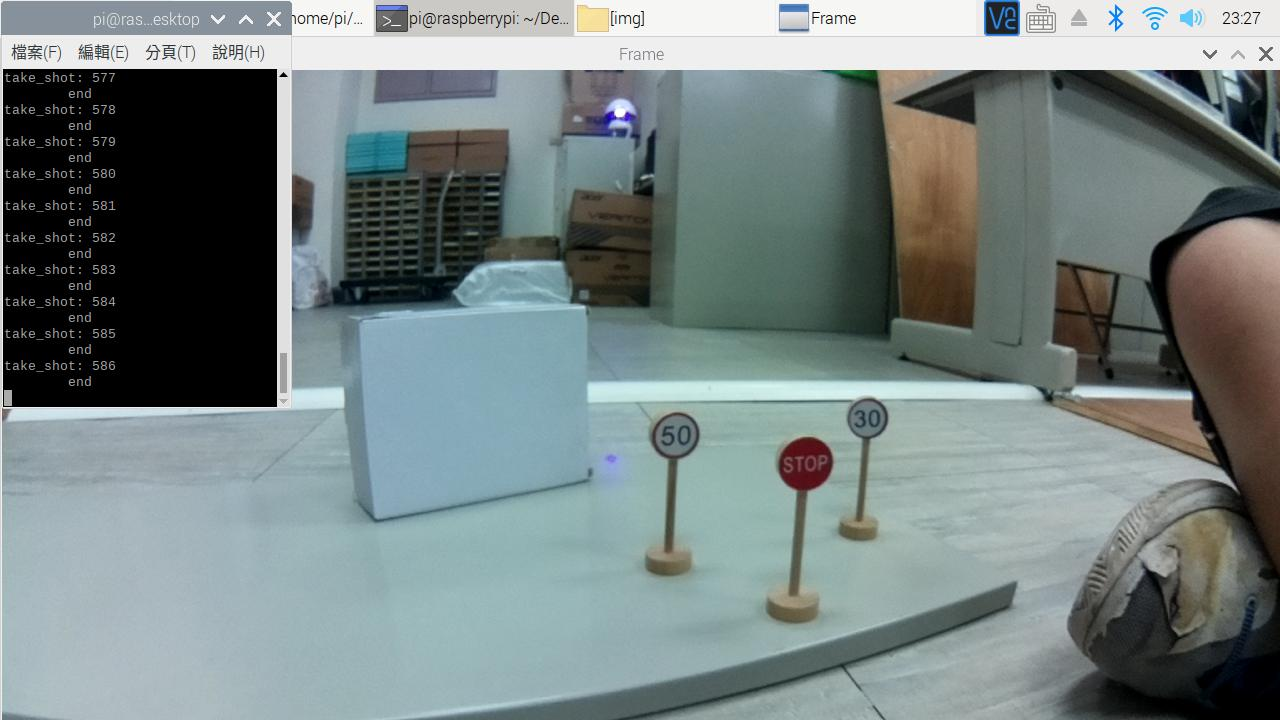Speed30: (833, 388, 901, 449)
Speed50: (651, 401, 712, 465)
Stop: (768, 429, 839, 496)
